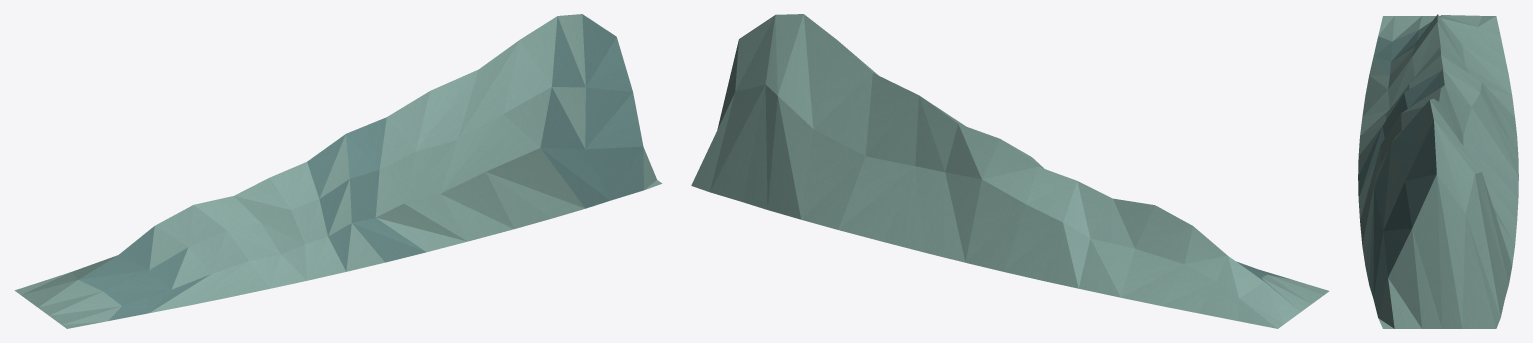
File: 07_right_summit.obj
The picture shows the model from 3 angles, left to right: view 1: azimuth 30°, elevation 25°; view 2: azimuth 150°, elevation 25°; view 3: azimuth 270°, elevation 25°; orthographic projection. The views are drawn at different scales.
Visible parts, largest first — view 1: Mountain_Right_Summit; view 2: Mountain_Right_Summit; view 3: Mountain_Right_Summit.
Part boxes in pixels (left/top/right/bottom): Mountain_Right_Summit: left=14, top=14, right=662, bottom=328; Mountain_Right_Summit: left=691, top=14, right=1329, bottom=328; Mountain_Right_Summit: left=1358, top=14, right=1518, bottom=328.
Size of the model in its own units: 16.4 by 4.53 by 3.56.
1 material, 1 textured.
